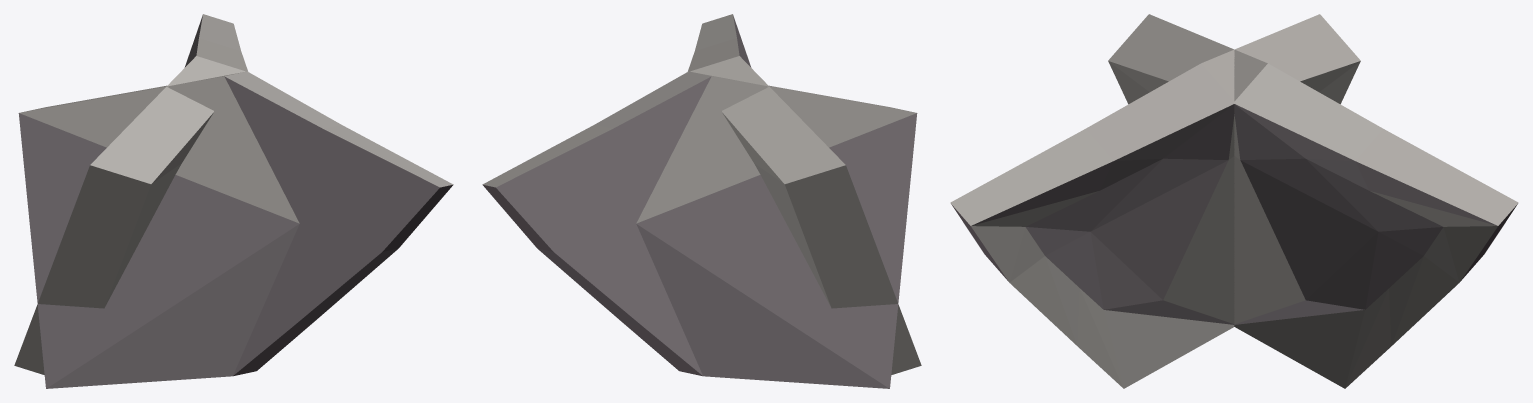
The model's file is gl_pointed.glb.
3 renders of one model, left to right at view 1: azimuth 30°, elevation 25°; view 2: azimuth 150°, elevation 25°; view 3: azimuth 270°, elevation 25°, orthographic. The views are drawn at different scales.
Visible parts, largest first — view 1: Ear_R, Ear_L; view 2: Ear_L, Ear_R; view 3: Ear_L, Ear_R.
Boxes of the visible parts, x1,y1,x2,y2 form: Ear_R: (18,71,453,388); Ear_L: (14,14,248,374); Ear_L: (482,71,917,388); Ear_R: (687,14,921,374); Ear_L: (1108,14,1518,388); Ear_R: (950,14,1360,388).
Bounding box in the file's own units: 0.0506 × 0.0439 × 0.0663.
1 material, 1 textured.
